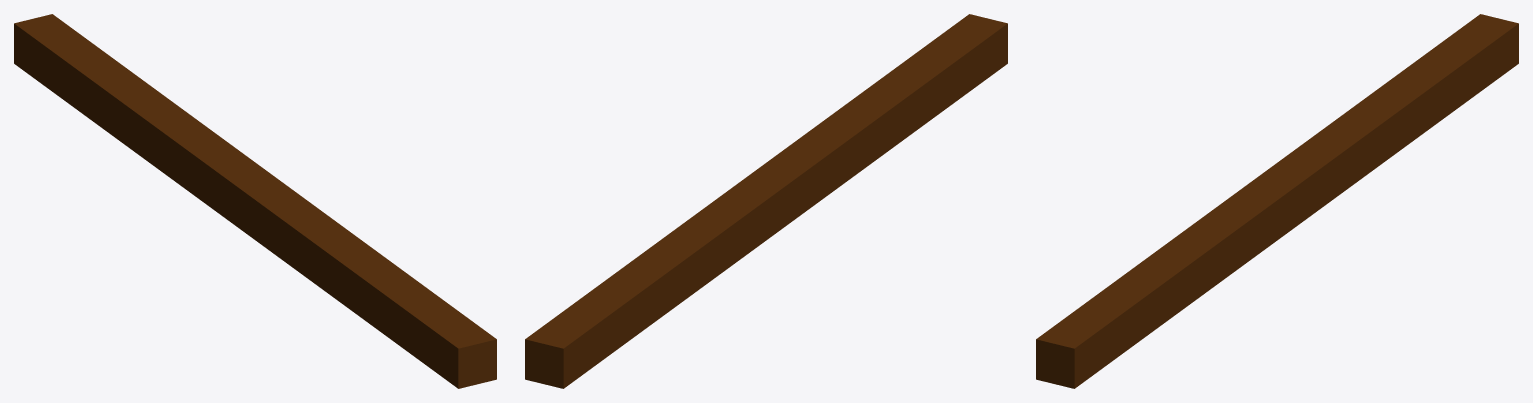
Rendered from borde4A.obj.
3 renders of one model, left to right at view 1: azimuth 30°, elevation 25°; view 2: azimuth 150°, elevation 25°; view 3: azimuth 330°, elevation 25°, orthographic.
Parts seen in each view (by area): view 1: Pillar.018; view 2: Pillar.018; view 3: Pillar.018.
Boxes of the visible parts, x1,y1,x2,y2 form: Pillar.018: (14, 14, 496, 388); Pillar.018: (525, 14, 1007, 388); Pillar.018: (1036, 14, 1518, 388).
Bounding box in the file's own units: 1 × 1 × 20.
Materials: 3 (3 with a texture image).
